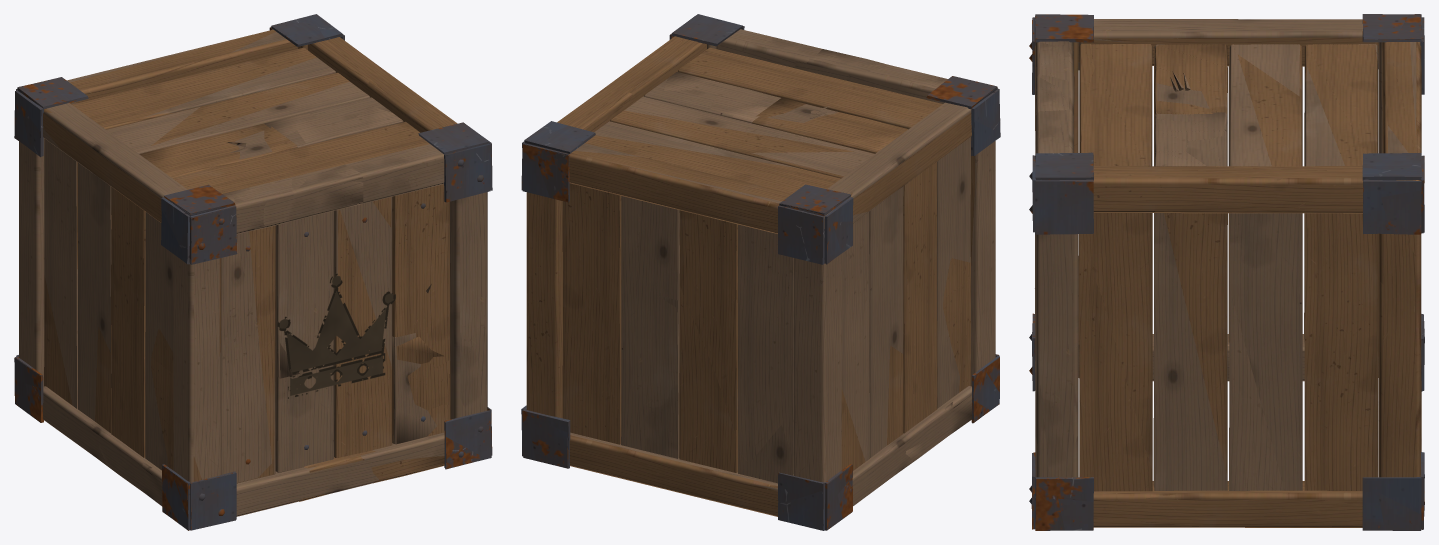
Rendered from Wooden_Crate.glb.
The picture shows the model from 3 angles, left to right: view 1: azimuth 30°, elevation 25°; view 2: azimuth 150°, elevation 25°; view 3: azimuth 270°, elevation 25°; orthographic projection. The views are drawn at different scales.
Visible parts, largest first — view 1: Intact, Damaged, Piece_2, Piece_6, Piece_5, Piece_1, Piece_4, Piece_3, Piece_0; view 2: Intact, Damaged, Piece_6, Piece_7, Piece_4, Piece_0, Piece_5; view 3: Intact, Damaged, Piece_4, Piece_7, Piece_1, Piece_5, Piece_0, Piece_6.
Boxes of the visible parts, x1=… form: Intact: x1=14, y1=14, x2=492, y2=530; Damaged: x1=15, y1=14, x2=491, y2=530; Piece_2: x1=221, y1=240, x2=299, y2=482; Piece_6: x1=19, y1=93, x2=44, y2=386; Piece_5: x1=189, y1=164, x2=363, y2=264; Piece_1: x1=299, y1=200, x2=487, y2=501; Piece_4: x1=139, y1=123, x2=297, y2=193; Piece_3: x1=372, y1=197, x2=449, y2=411; Piece_0: x1=94, y1=258, x2=221, y2=506; Intact: x1=521, y1=14, x2=1000, y2=530; Damaged: x1=521, y1=36, x2=1000, y2=525; Piece_6: x1=679, y1=210, x2=841, y2=482; Piece_7: x1=526, y1=192, x2=679, y2=445; Piece_4: x1=681, y1=72, x2=942, y2=153; Piece_0: x1=893, y1=137, x2=974, y2=473; Piece_5: x1=813, y1=49, x2=999, y2=103; Intact: x1=1029, y1=14, x2=1424, y2=530; Damaged: x1=1032, y1=14, x2=1424, y2=530; Piece_4: x1=1079, y1=44, x2=1227, y2=165; Piece_7: x1=1304, y1=234, x2=1420, y2=490; Piece_1: x1=1035, y1=234, x2=1078, y2=477; Piece_5: x1=1032, y1=17, x2=1074, y2=130; Piece_0: x1=1073, y1=42, x2=1229, y2=381; Piece_6: x1=1378, y1=42, x2=1421, y2=244.
Bounding box in the file's own units: 1.02 × 1.01 × 1.03.
Materials: 3 (3 with a texture image).
